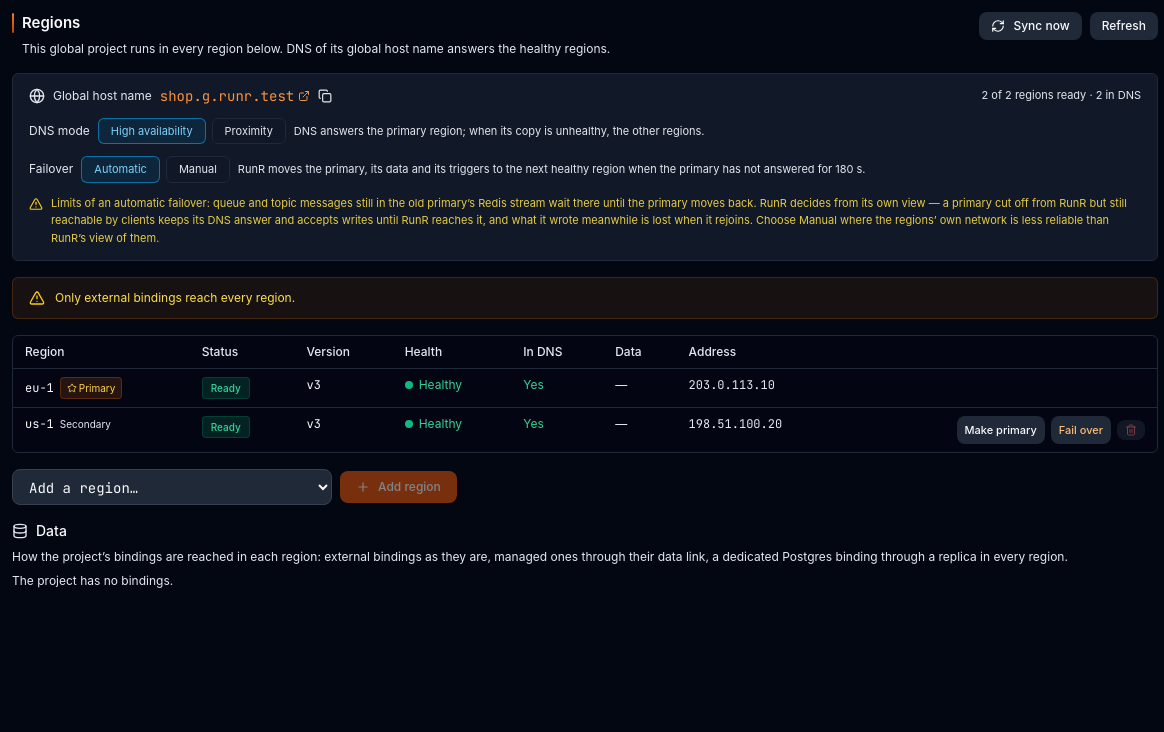
Test: Project → Regions: failover, triggers and data (phase 2) › shows the API error of a refused failover
Click the button with test id "global-failover" at (1081, 430), box [1051,416,1111,444]
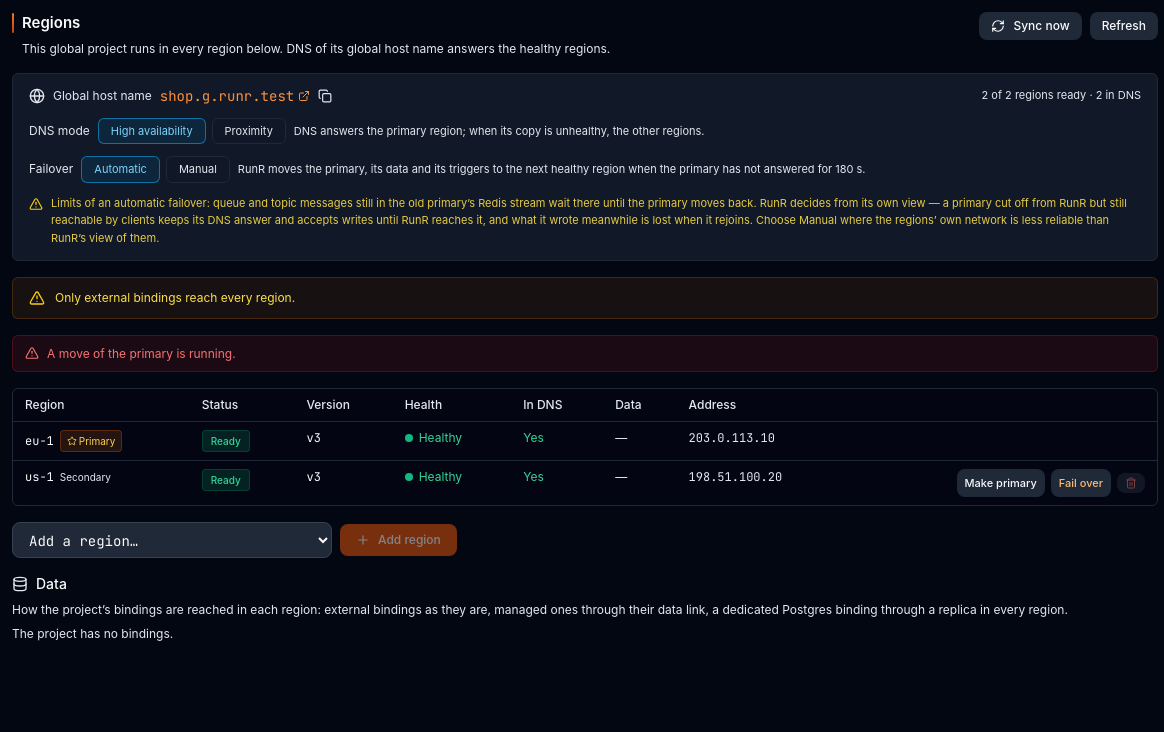
Now the element with test id "global-error" reads "A move of the primary is running.", box [47,346,236,361]
